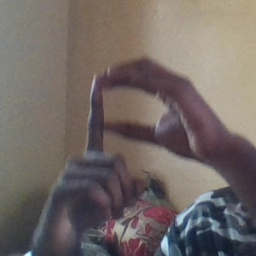P: (66, 50, 212, 213)
